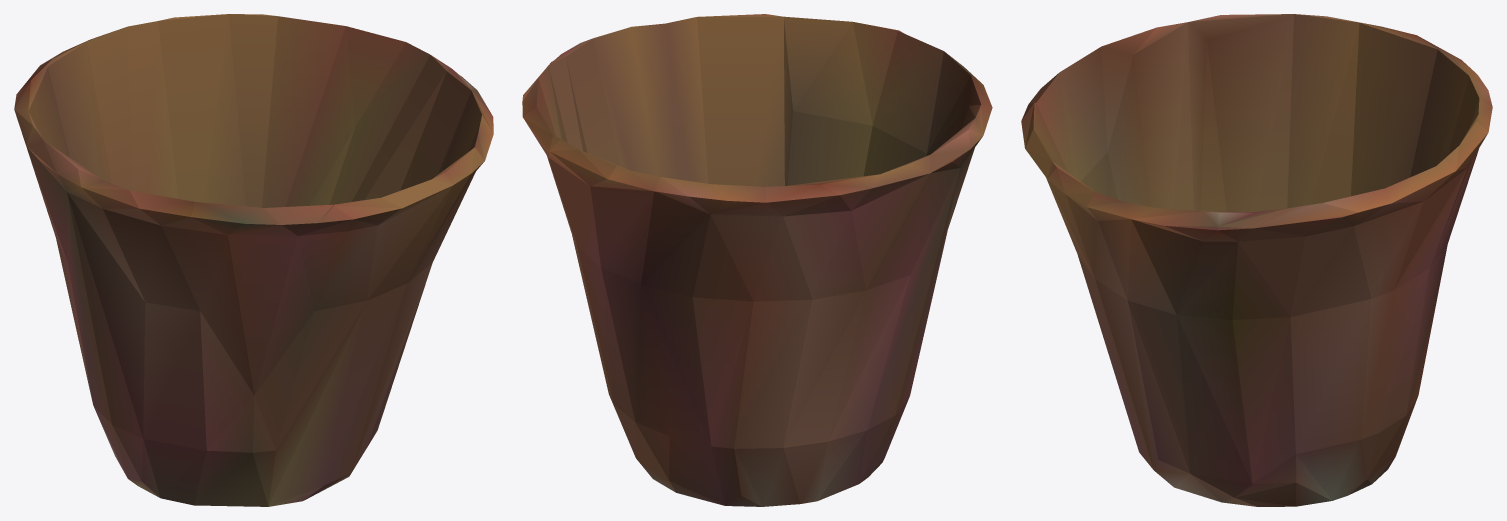
Rendered from planter_pot_clay.glb.
3 renders of one model, left to right at view 1: azimuth 30°, elevation 25°; view 2: azimuth 150°, elevation 25°; view 3: azimuth 270°, elevation 25°, orthographic.
Parts seen in each view (by area): view 1: planter_pot_clay; view 2: planter_pot_clay; view 3: planter_pot_clay.
Boxes of the visible parts, x1,y1,x2,y2 form: planter_pot_clay: [14, 14, 493, 506]; planter_pot_clay: [522, 14, 992, 506]; planter_pot_clay: [1021, 14, 1492, 506].
Bounding box in the file's own units: 0.28 × 0.2336 × 0.2776.
